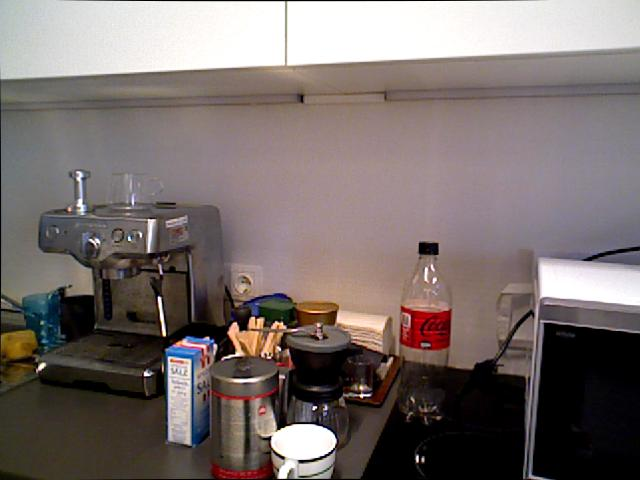bench: (397, 240, 452, 423)
handbag: (269, 423, 337, 479), (105, 167, 168, 215), (25, 291, 69, 354)
knife: (521, 255, 639, 479)
